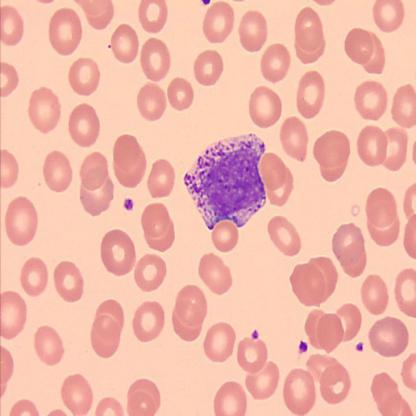Myelocyte: (184, 132, 272, 226)
